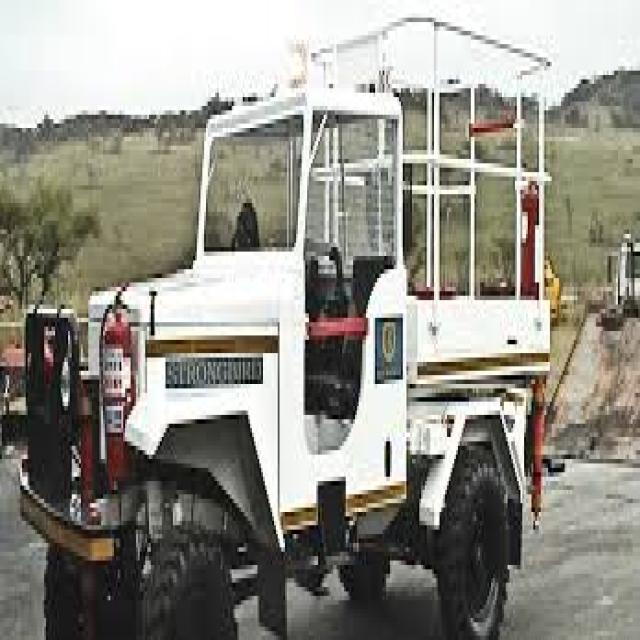light_vehicle: (52, 13, 570, 636)
